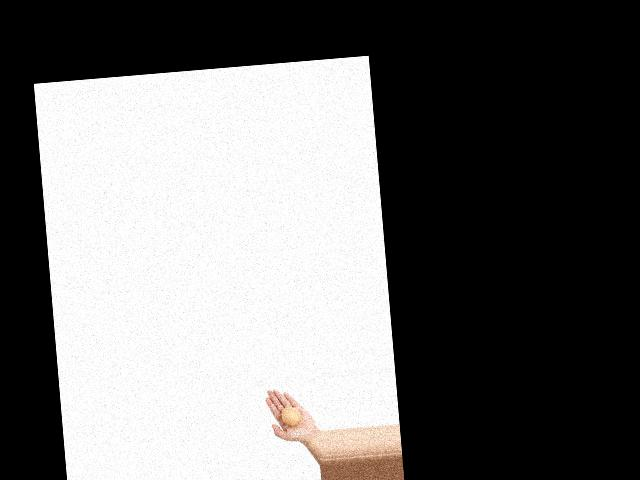egg: (281, 406, 302, 428)
